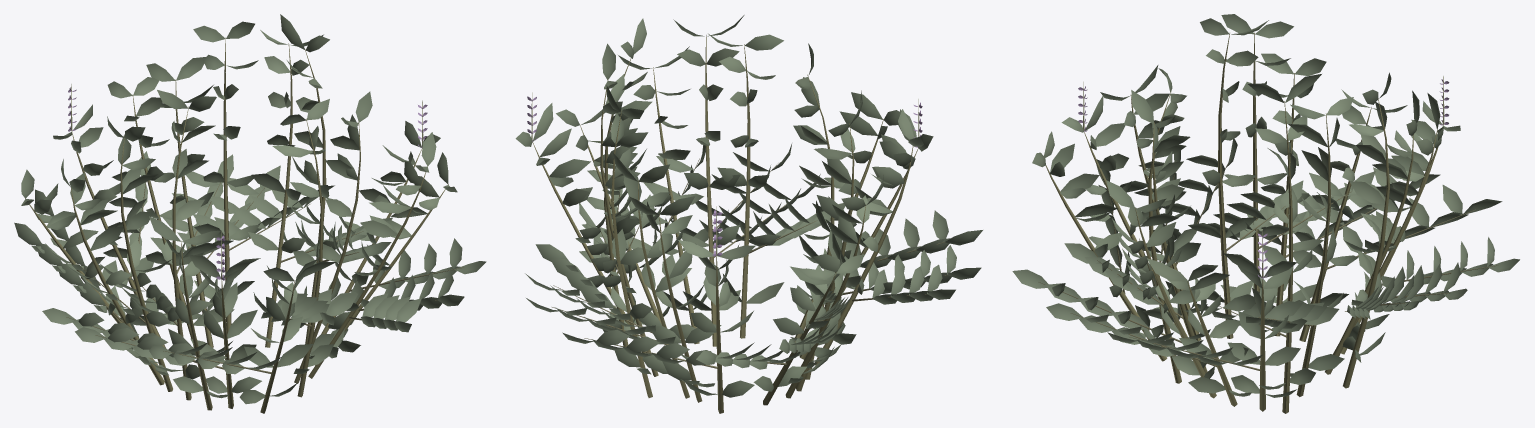
Rendered from salvia-fruticosa-far.glb.
The picture shows the model from 3 angles, left to right: view 1: azimuth 30°, elevation 25°; view 2: azimuth 150°, elevation 25°; view 3: azimuth 270°, elevation 25°; orthographic projection. The views are drawn at different scales.
Visible parts, largest first — view 1: salvia-fruticosa dense natural leaf mound, salvia-fruticosa connected low branching, salvia-fruticosa restrained seasonal flowers; view 2: salvia-fruticosa dense natural leaf mound, salvia-fruticosa connected low branching, salvia-fruticosa restrained seasonal flowers; view 3: salvia-fruticosa dense natural leaf mound, salvia-fruticosa connected low branching, salvia-fruticosa restrained seasonal flowers.
Part boxes in pixels (x1,y1,x2,y2): salvia-fruticosa dense natural leaf mound: [14, 14, 486, 404]; salvia-fruticosa connected low branching: [25, 37, 463, 413]; salvia-fruticosa restrained seasonal flowers: [68, 87, 427, 280]; salvia-fruticosa dense natural leaf mound: [515, 15, 982, 397]; salvia-fruticosa connected low branching: [531, 35, 947, 413]; salvia-fruticosa restrained seasonal flowers: [527, 96, 922, 256]; salvia-fruticosa dense natural leaf mound: [1012, 14, 1519, 397]; salvia-fruticosa connected low branching: [1038, 32, 1497, 413]; salvia-fruticosa restrained seasonal flowers: [1078, 79, 1449, 279].
Size of the model in its own units: 0.8924 by 0.6855 by 0.9426.
